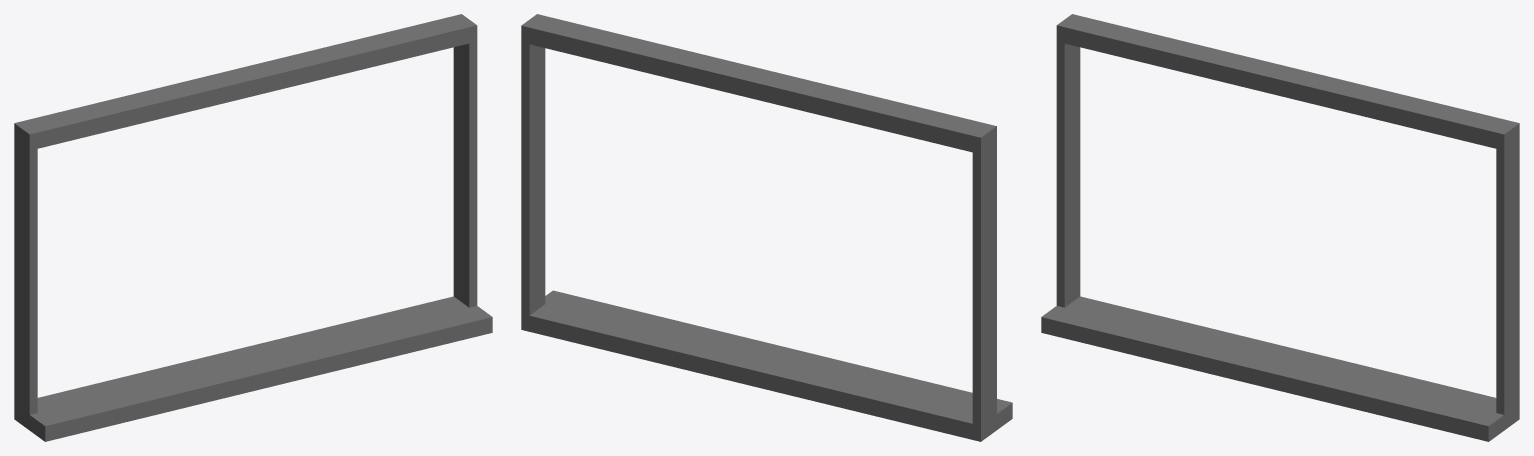
Rendered from WindowLarge00.fbx.
The picture shows the model from 3 angles, left to right: view 1: azimuth 30°, elevation 25°; view 2: azimuth 150°, elevation 25°; view 3: azimuth 330°, elevation 25°; orthographic projection. The views are drawn at different scales.
Parts seen in each view (by area): view 1: WindowLarge00; view 2: WindowLarge00; view 3: WindowLarge00.
Part boxes in pixels (bbox=[...]): WindowLarge00: bbox=[14, 14, 492, 441]; WindowLarge00: bbox=[521, 14, 1012, 441]; WindowLarge00: bbox=[1041, 14, 1519, 441].
Size of the model in its own units: 167 by 106 by 20.
